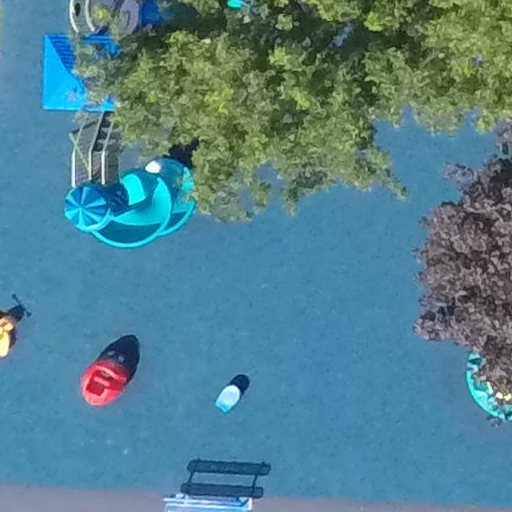toy: (82, 348, 135, 416)
